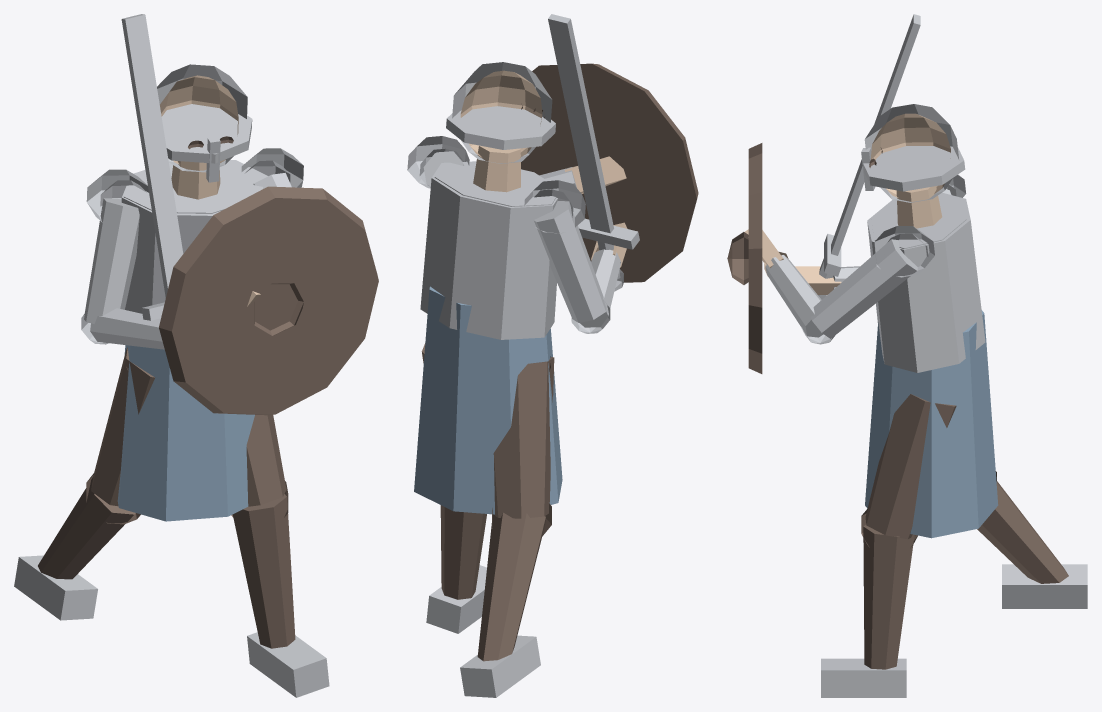
File: low-poly-character-figures-knight-standing-f79158c7__36372.glb
3 renders of one model, left to right at view 1: azimuth 30°, elevation 25°; view 2: azimuth 150°, elevation 25°; view 3: azimuth 270°, elevation 25°, orthographic. The views are drawn at different scales.
Parts seen in each view (by area): view 1: knight-standing; view 2: knight-standing; view 3: knight-standing.
Part boxes in pixels (x1,y1,x2,y2): knight-standing: (14, 14, 378, 697); knight-standing: (407, 14, 698, 697); knight-standing: (727, 14, 1087, 697).
Bounding box in the file's own units: 0.6991 × 2.05 × 1.08.
